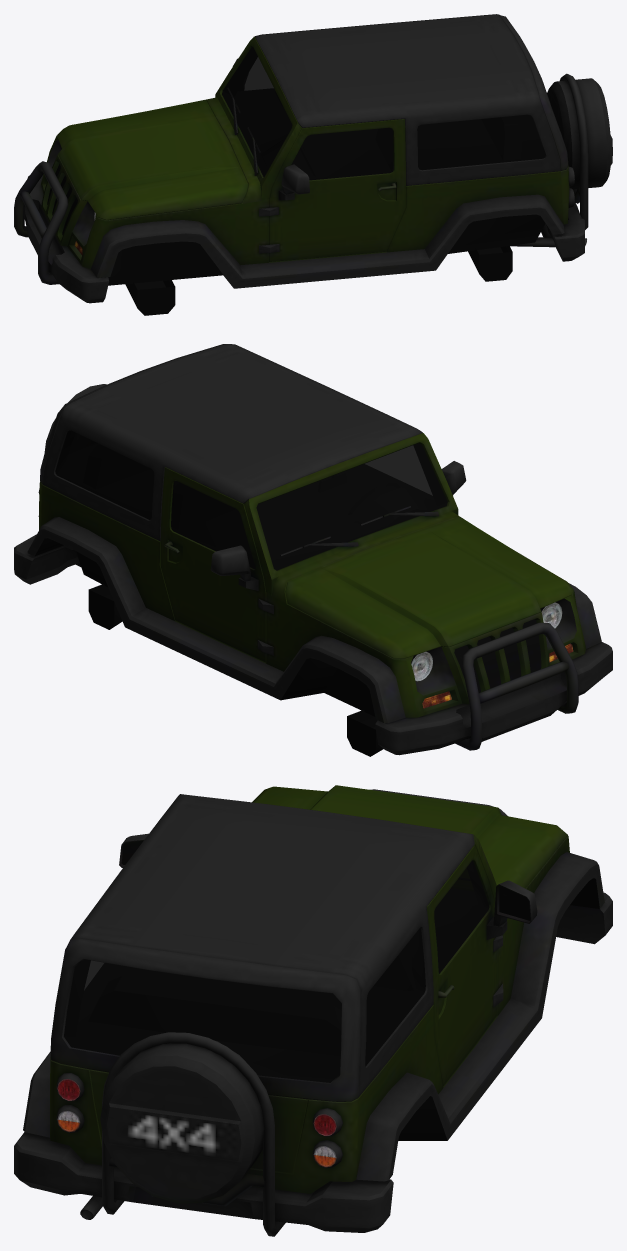
The model's file is auto-offroad.glb.
The picture shows the model from 3 angles, top to bottom: view 1: azimuth 30°, elevation 25°; view 2: azimuth 150°, elevation 25°; view 3: azimuth 270°, elevation 25°; orthographic projection. The views are drawn at different scales.
Visible parts, largest first — view 1: Offroad Body; view 2: Offroad Body; view 3: Offroad Body.
Boxes of the visible parts, x1,y1,x2,y2 form: Offroad Body: [14, 14, 612, 315]; Offroad Body: [14, 344, 612, 756]; Offroad Body: [14, 785, 612, 1236].
Size of the model in its own units: 3.97 by 1.38 by 2.71.
Materials: 3 (2 with a texture image).
